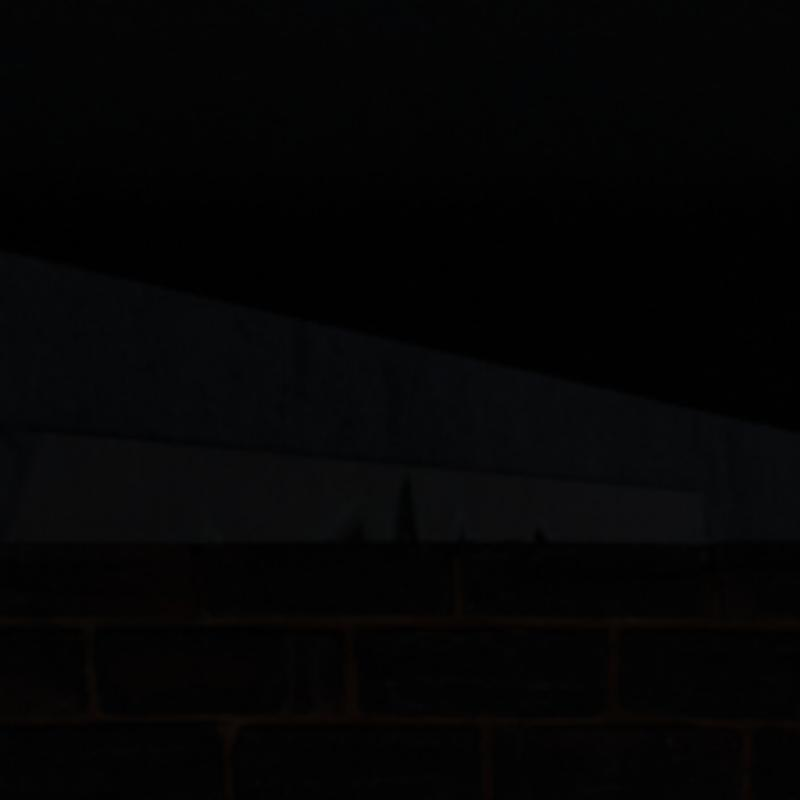crack: (514, 568, 709, 575), (709, 564, 796, 568)
